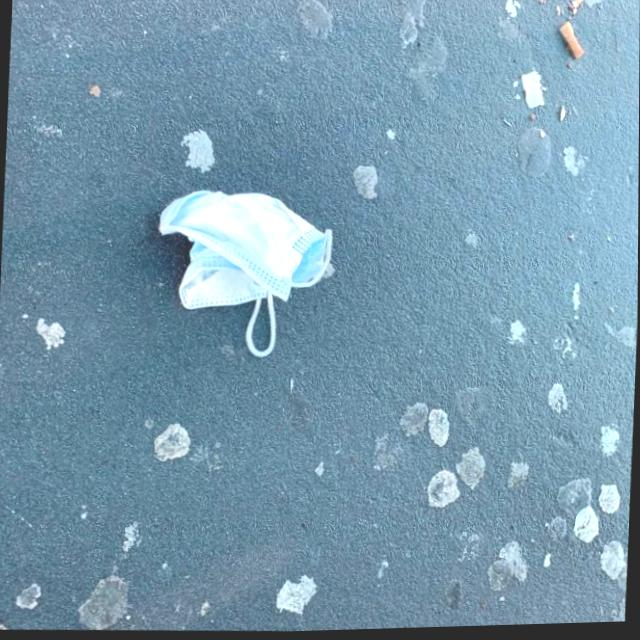Mask: (146, 181, 337, 364)
